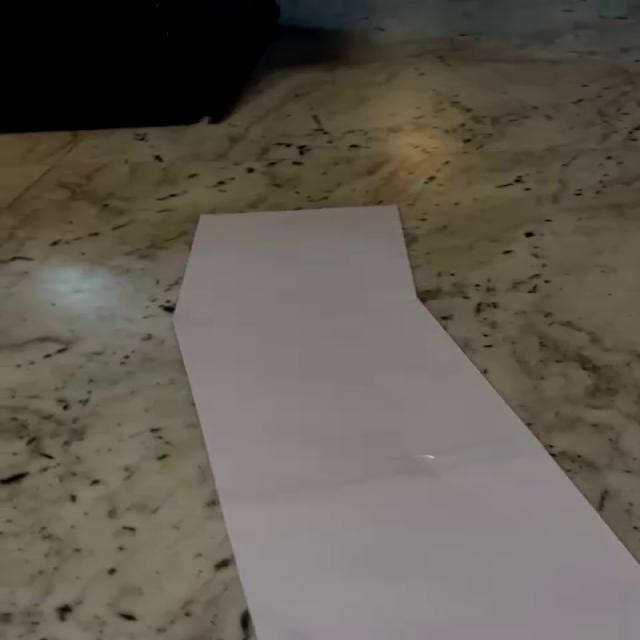road: (173, 206, 638, 640)
